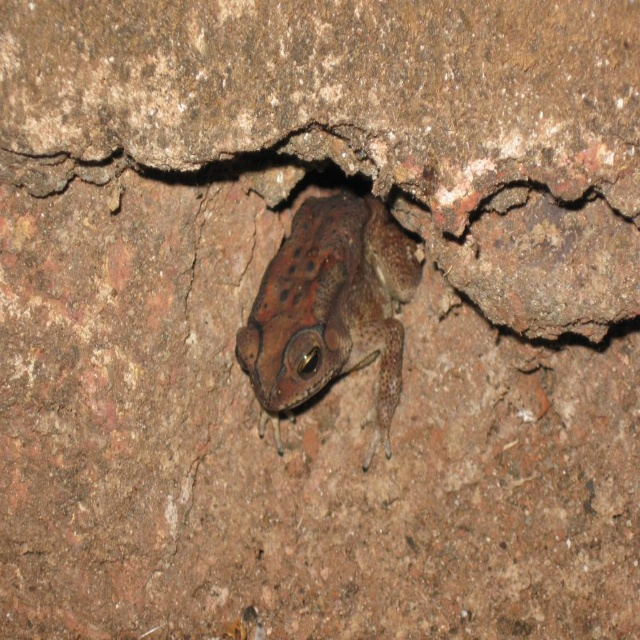Frog: (229, 185, 430, 471)
